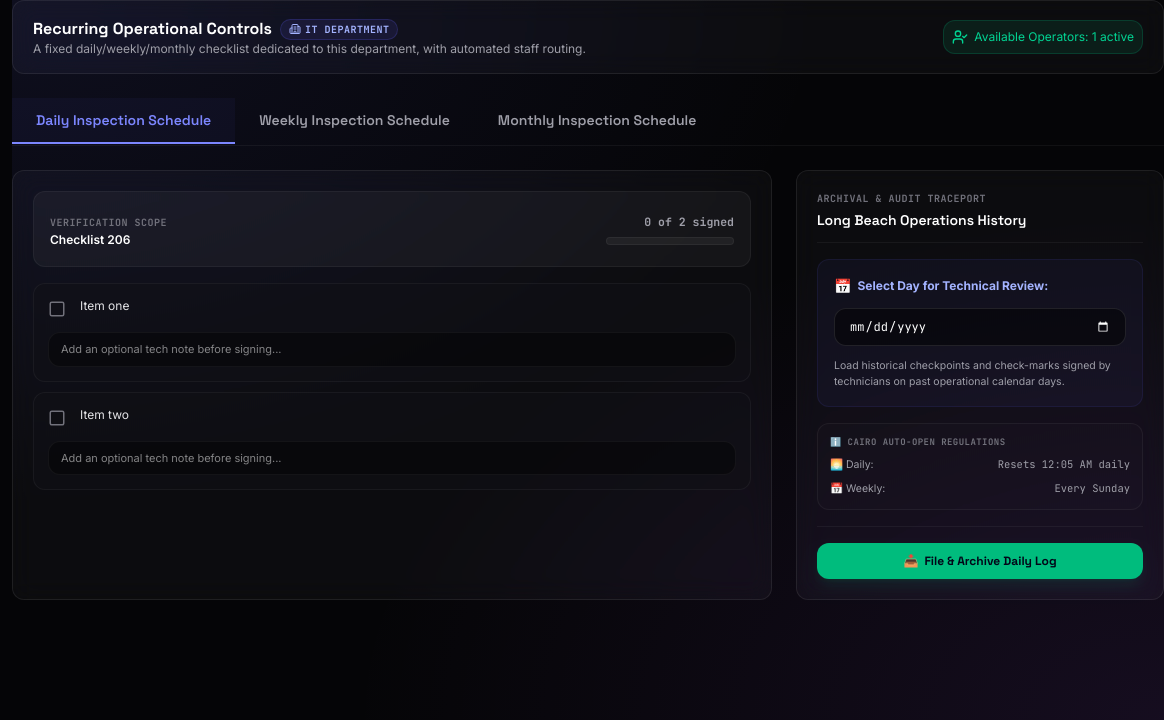
Test: Checklists — progress and live updates › switches the active schedule when a tab is clicked
The image size is (1164, 720).
Click the button "Weekly Inspection Schedule".
click(354, 121)  # box x1=235 y1=98 x2=474 y2=144
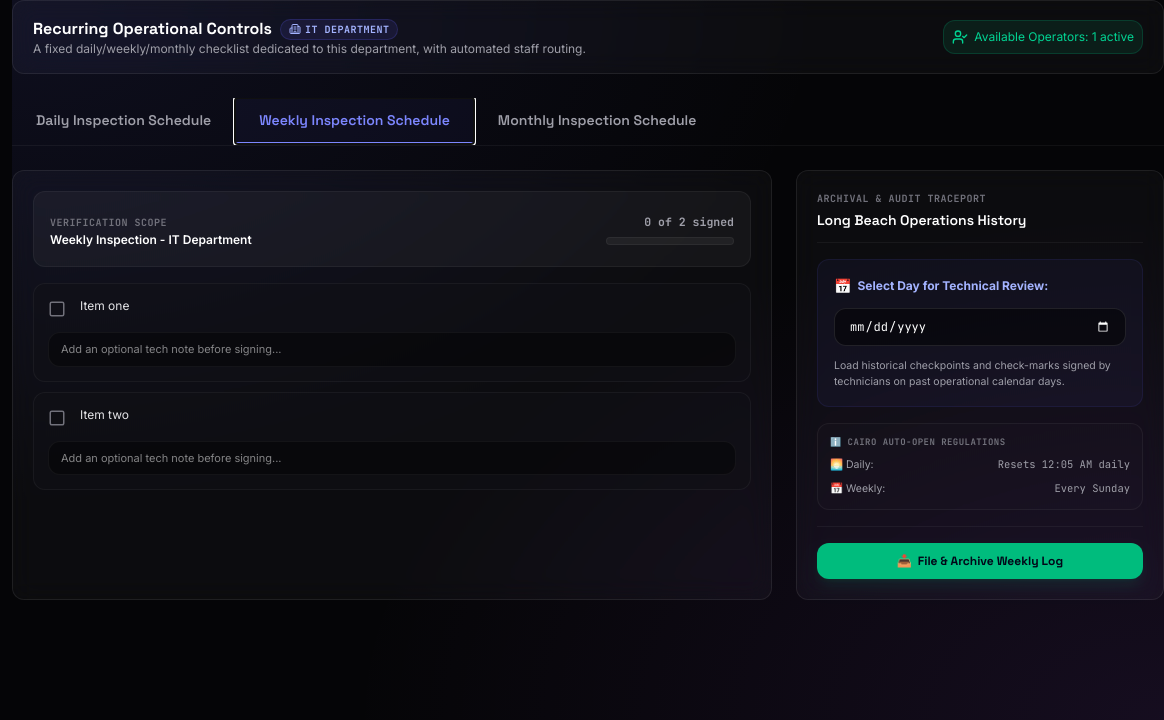
Expected: the heading "Weekly Inspection - IT Department" is shown, x1=50 y1=232 x2=252 y2=248
